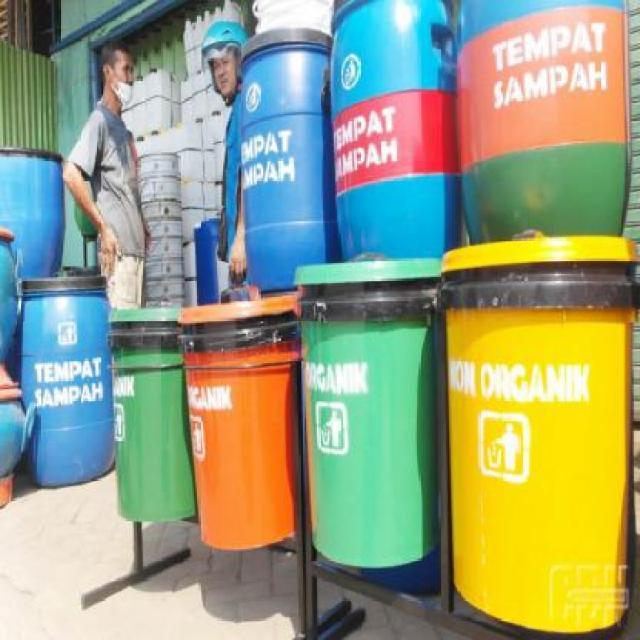garbage container: (438, 237, 640, 640), (295, 252, 446, 581), (457, 2, 637, 244), (176, 288, 305, 556), (331, 2, 460, 261), (231, 25, 334, 288), (99, 304, 201, 532), (16, 273, 121, 493), (2, 138, 68, 289)
